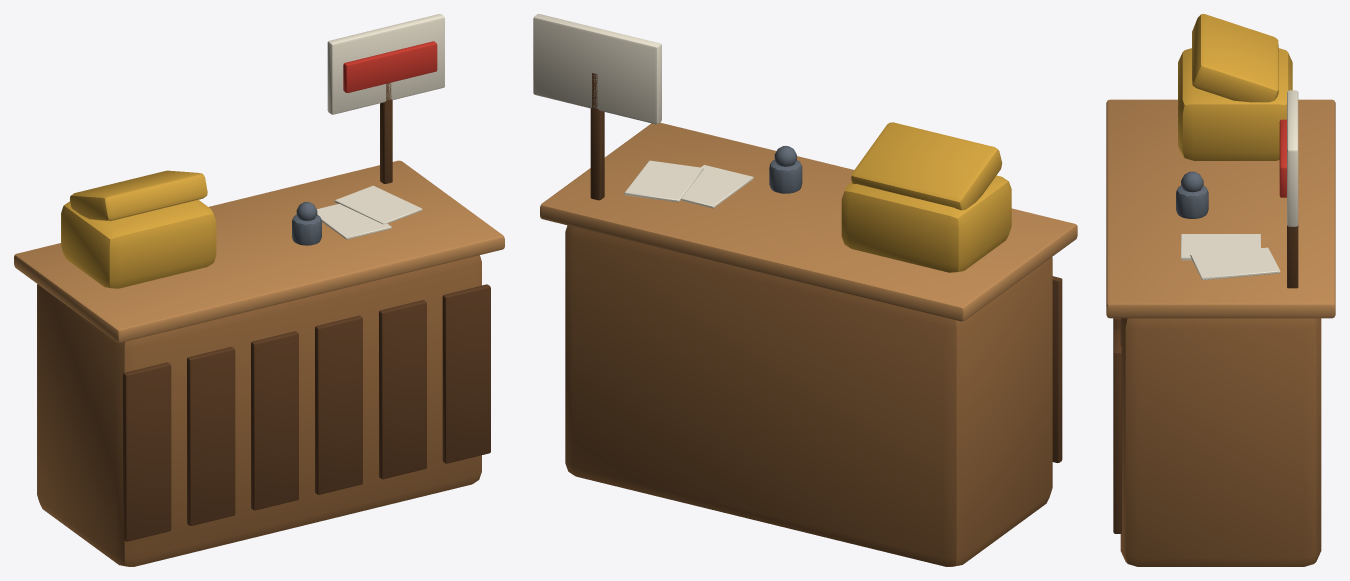
File: TicketCounter.glb
3 views of the same model, side by side, from view 1: azimuth 30°, elevation 25°; view 2: azimuth 150°, elevation 25°; view 3: azimuth 270°, elevation 25° (orthographic). The views are drawn at different scales.
Visible parts, largest first — view 1: TicketCounter; view 2: TicketCounter; view 3: TicketCounter.
Boxes of the visible parts, <box> form: TicketCounter: <box>14,14,504,566</box>; TicketCounter: <box>533,14,1077,566</box>; TicketCounter: <box>1106,14,1335,566</box>.
Bounding box in the file's own units: 1.8 × 1.7 × 0.8.
